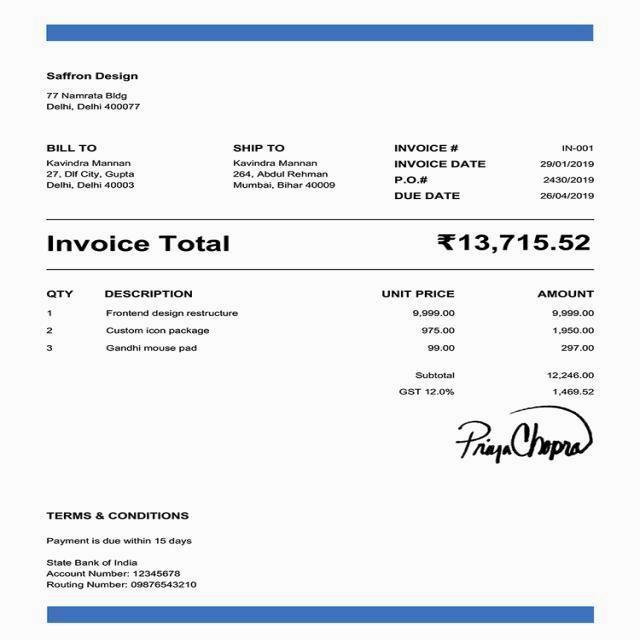paragraph: (38, 224, 599, 257), (38, 500, 206, 596), (386, 138, 605, 208), (450, 404, 605, 464), (391, 365, 601, 401), (226, 139, 341, 198), (42, 138, 143, 198), (38, 65, 153, 115)
table: (32, 278, 602, 361)
